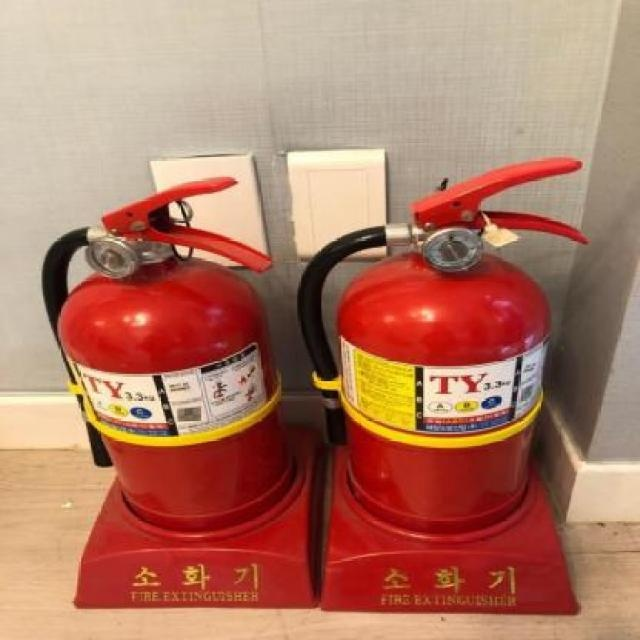fire extinguisher: (298, 157, 590, 535), (41, 176, 296, 532)
